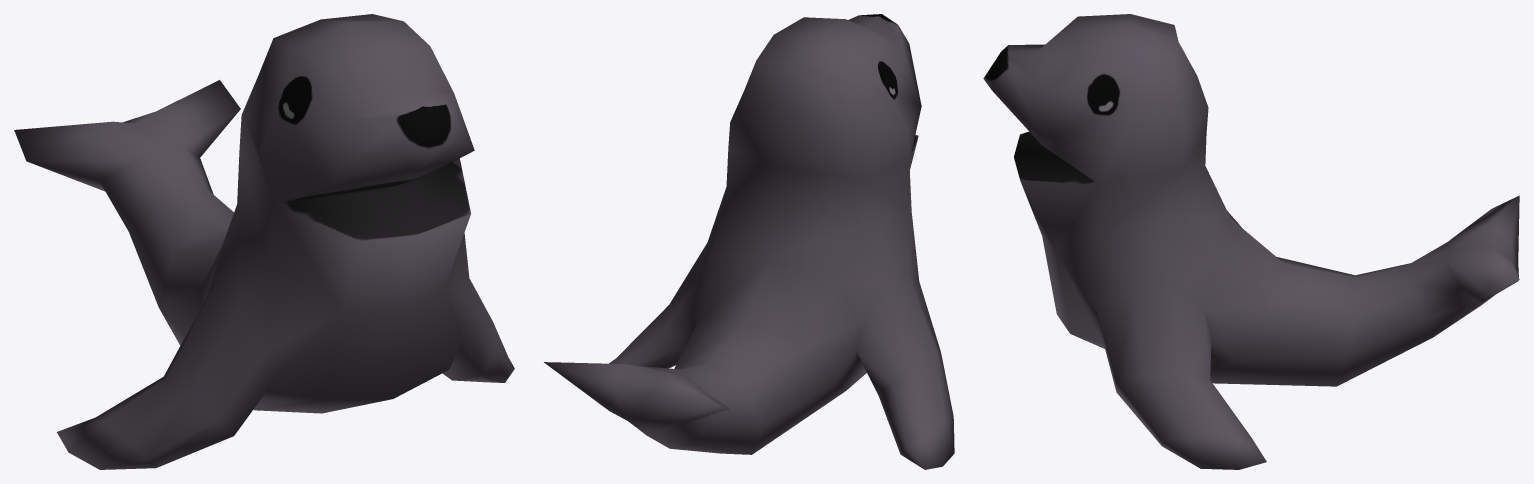
File: sealion.gltf
The picture shows the model from 3 angles, left to right: view 1: azimuth 30°, elevation 25°; view 2: azimuth 150°, elevation 25°; view 3: azimuth 270°, elevation 25°; orthographic projection. The views are drawn at different scales.
Visible parts, largest first — view 1: sealion; view 2: sealion; view 3: sealion.
Boxes of the visible parts, x1,y1,x2,y2 form: sealion: (14,14,514,469); sealion: (544,14,954,469); sealion: (983,14,1519,469).
Size of the model in its own units: 108 by 102 by 138.
Materials: 1 (1 with a texture image).
